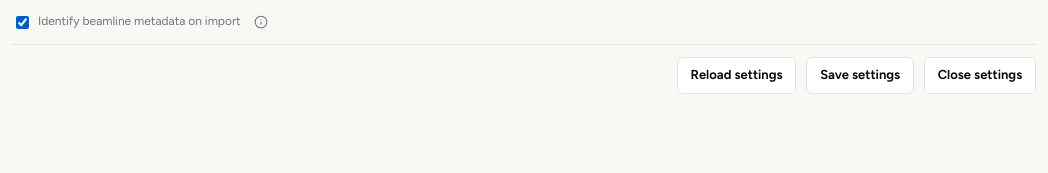
Test: retains an unsaved switch on conflict and reloads the authoritative version
The image size is (1048, 173).
Click the checkbox at coordinates (22, 22), box [16,16,29,28]
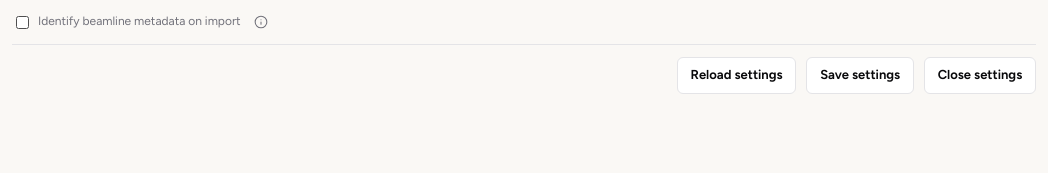
Click the button "Save settings" at coordinates (860, 76), box [806,57,914,94]
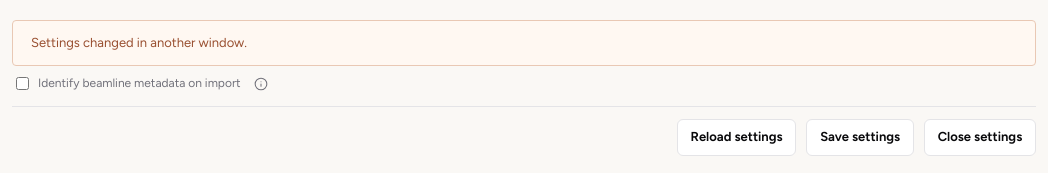
Check: the checkbox is not checked, box [16,77,29,90]
Check: the message shows "changed in another window", box [31,35,247,50]
Click the button "Reload settings" at coordinates (737, 137), box [677,118,796,156]
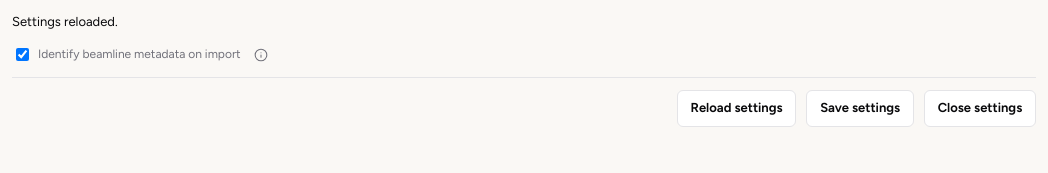
Check: the checkbox is checked, box [16,48,29,61]
Check: the text "Settings reloaded." is shown, box [12,14,118,29]
